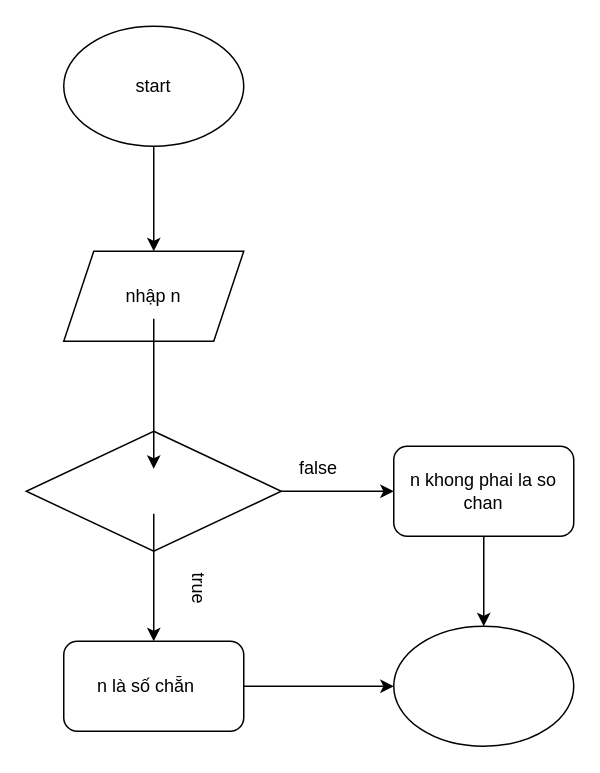
The diagram is 600 pixels wide and 773 high, and some of its shapes have lost their labels. Here are the shapes that lost their labels. From the top down, the centre of each, then its label:
point (153, 490): n > 0 and n mod 2=0
point (483, 685): end
